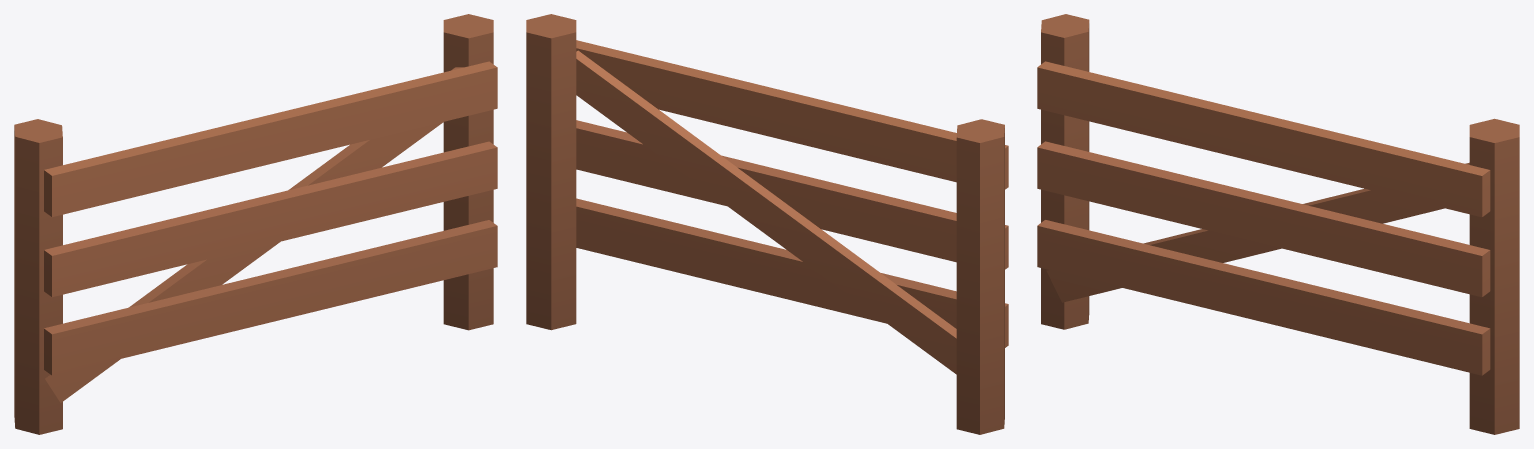
File: gates left.fbx
3 renders of one model, left to right at view 1: azimuth 30°, elevation 25°; view 2: azimuth 150°, elevation 25°; view 3: azimuth 330°, elevation 25°, orthographic.
Parts seen in each view (by area): view 1: gates left; view 2: gates left; view 3: gates left.
Boxes of the visible parts, bbox=[...] form: gates left: bbox=[14, 14, 497, 434]; gates left: bbox=[526, 14, 1008, 434]; gates left: bbox=[1037, 14, 1519, 434].
Size of the model in its own units: 210 by 122 by 25.33.
